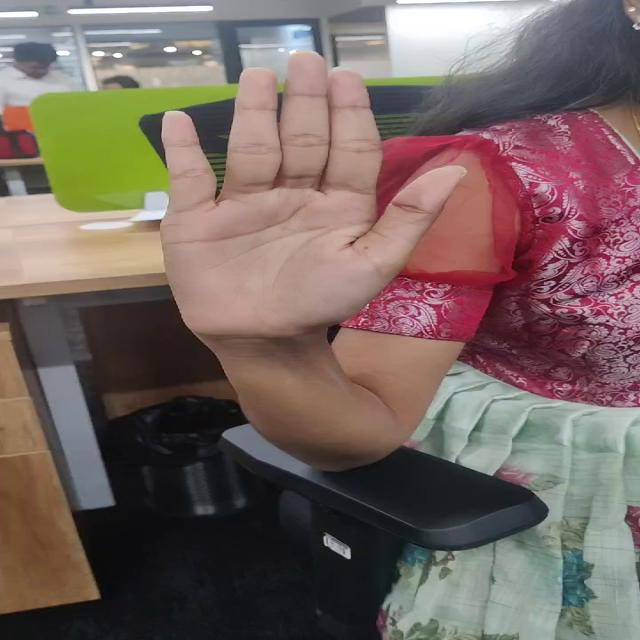no-gloves: (154, 38, 483, 344)
